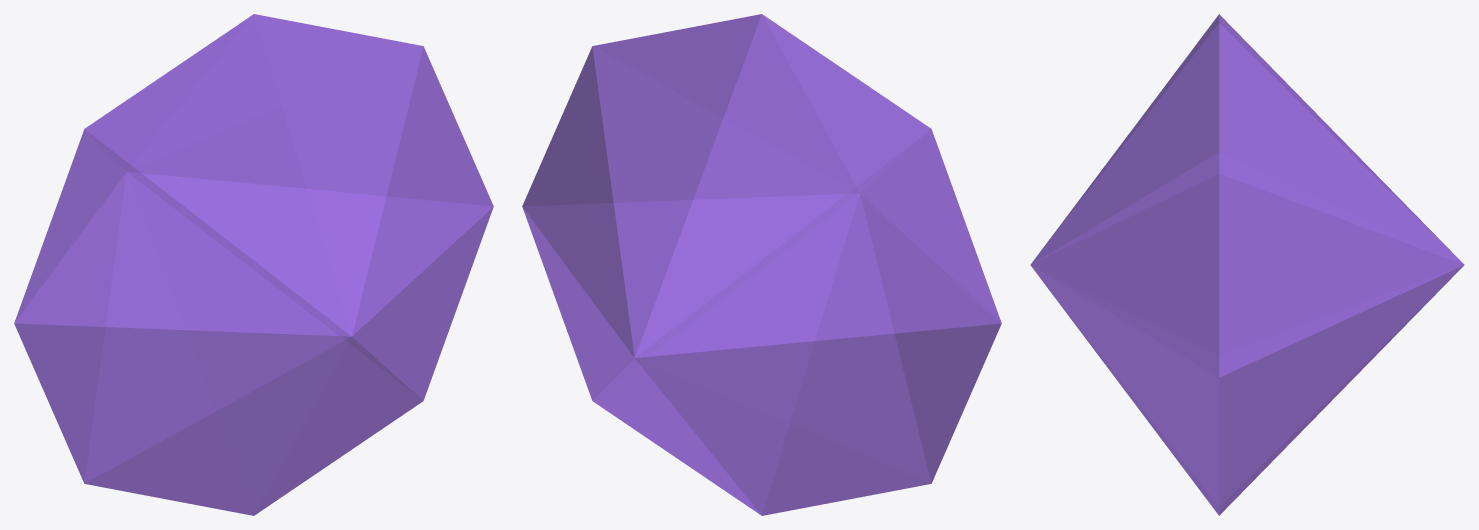
The model's file is OctagonalDipyramid.obj.
3 renders of one model, left to right at view 1: azimuth 30°, elevation 25°; view 2: azimuth 150°, elevation 25°; view 3: azimuth 270°, elevation 25°, orthographic. The views are drawn at different scales.
Bounding box in the file's own units: 2.83 × 2.83 × 2.3.
